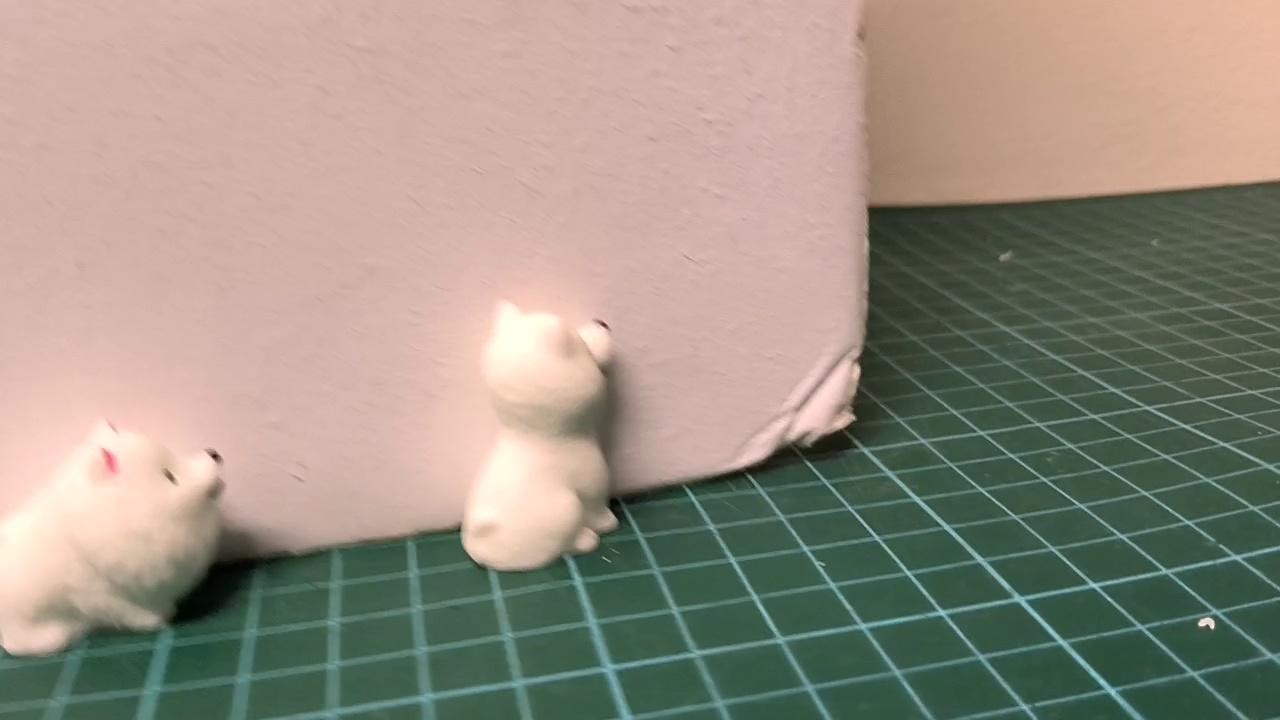pet: (0, 414, 228, 655), (462, 305, 620, 573)
